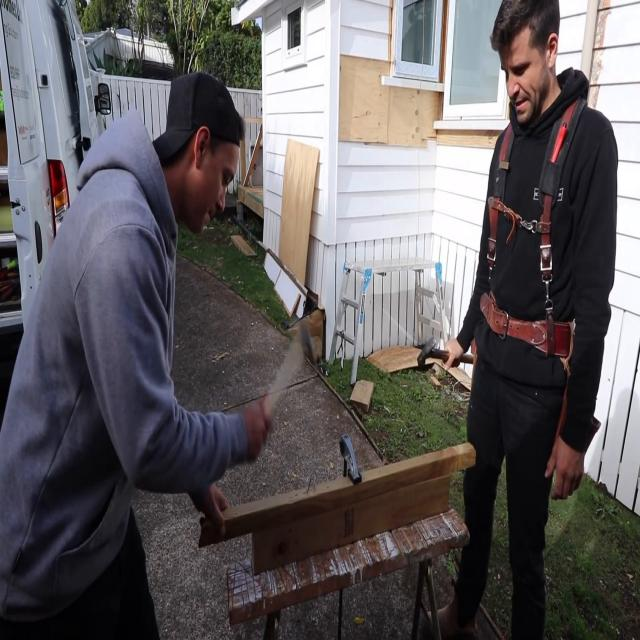hammer: (418, 339, 474, 370)
